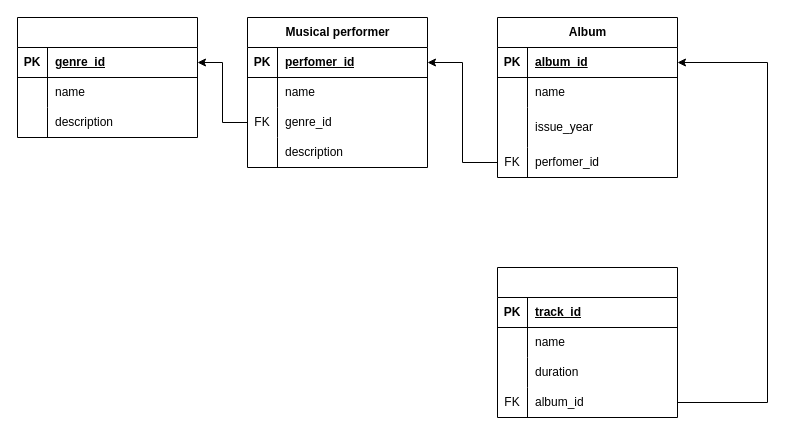
Image size: 793x435. Some labels were removed from this diagram. The shapes that lost their labels are listed below. From the top down, each one's box as (x1, y1, x2, y2) in pixels, then its label:
(16, 16, 198, 138): Genre of music
(496, 266, 678, 418): Tracks
